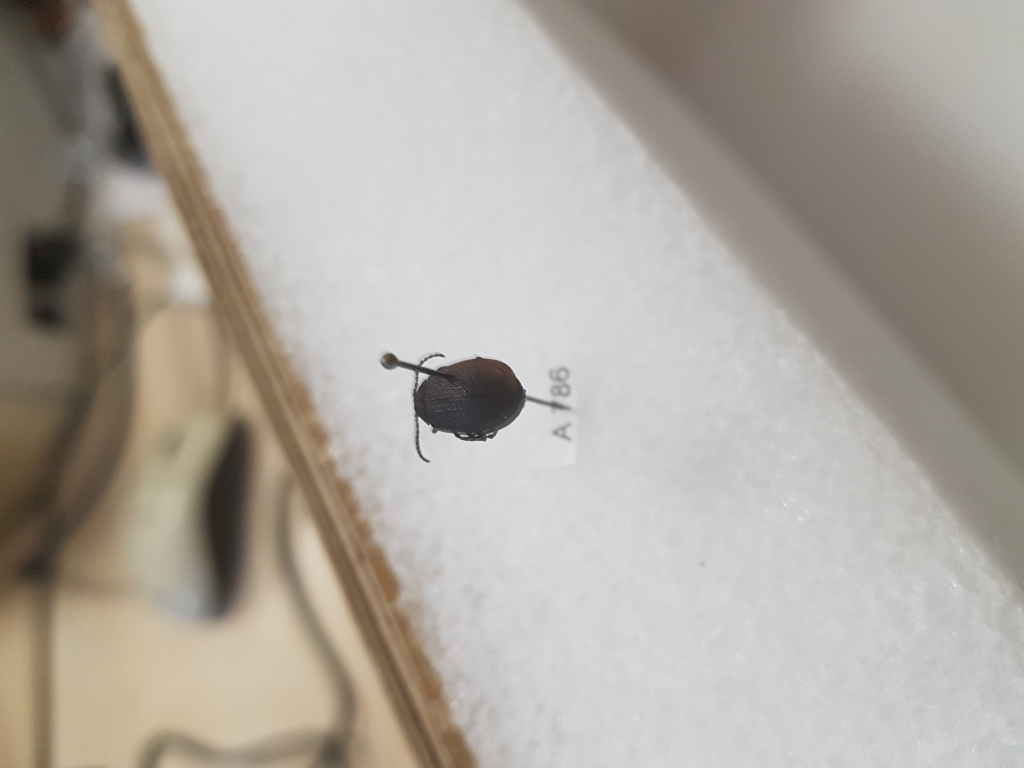Galeruca_tanaceti: (406, 348, 534, 467)
